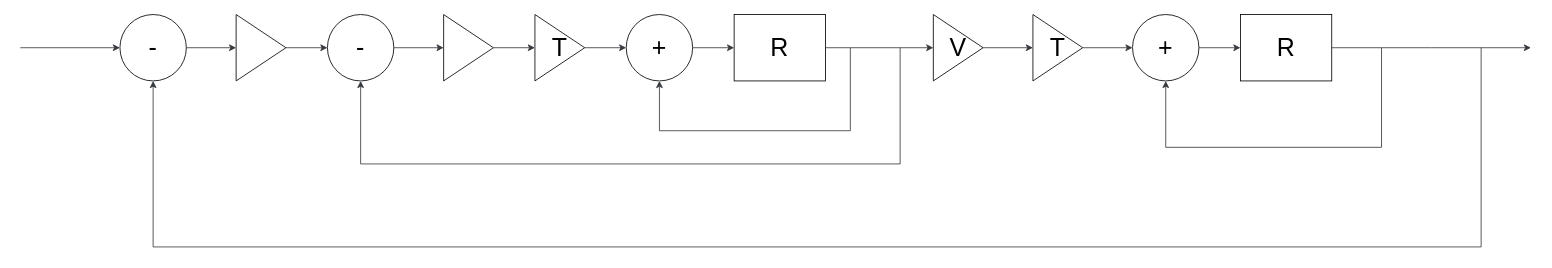
The diagram is 1552 pixels wide and 268 high, and some of its shapes have lost their labels. The centre of each missing label's shape, as x and y in pixels:
Ka: (468,47)
Kd: (260,47)
